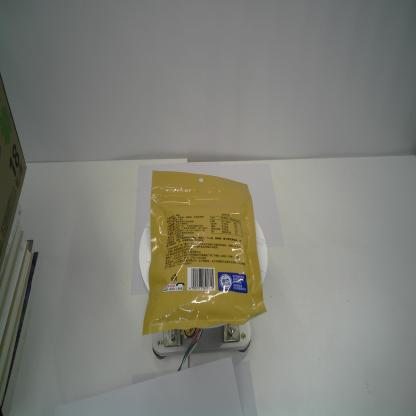Dried Fruit: (142, 170, 268, 337)
